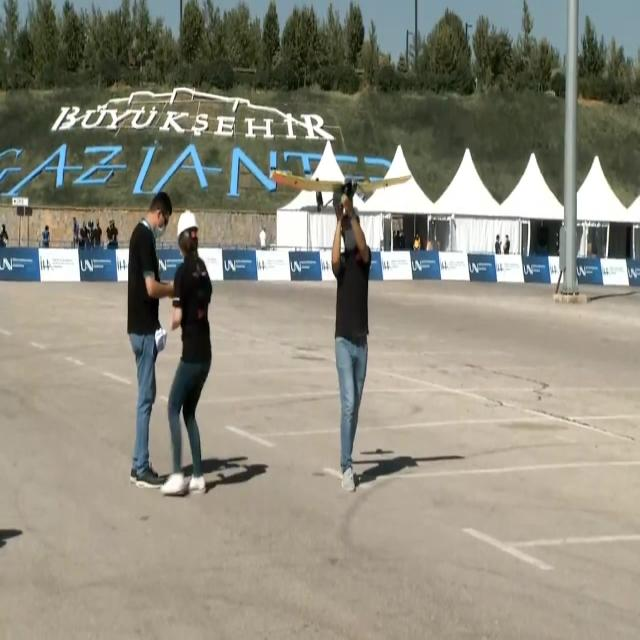iha: (269, 170, 412, 214)
